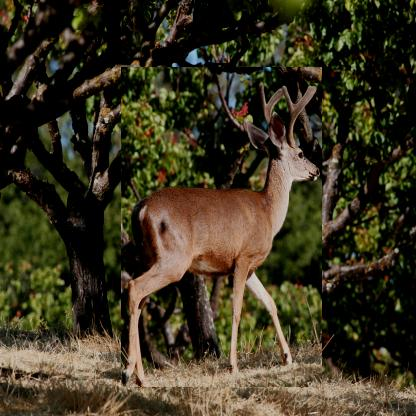Deer: (121, 67, 322, 387)
